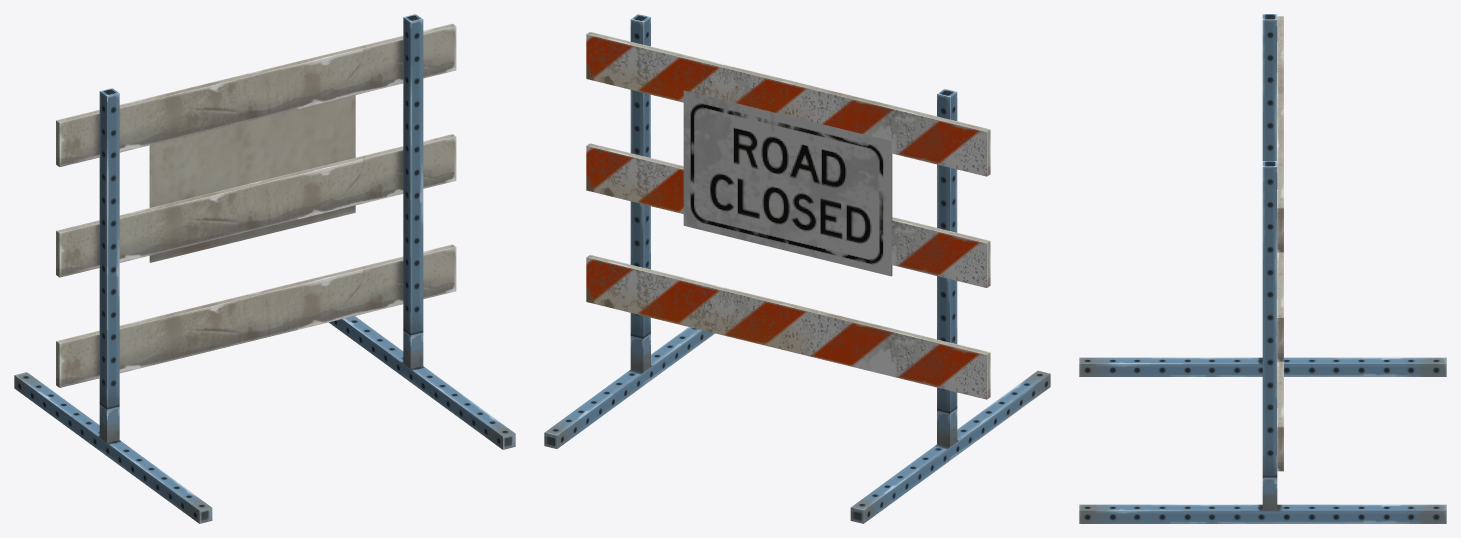
Rendered from TRF0210028.fbx.
3 renders of one model, left to right at view 1: azimuth 30°, elevation 25°; view 2: azimuth 150°, elevation 25°; view 3: azimuth 270°, elevation 25°, orthographic.
Parts seen in each view (by area): view 1: smTRF0210028; view 2: smTRF0210028; view 3: smTRF0210028.
Part boxes in pixels (box(x1,y1,x2,y2)): smTRF0210028: box(14, 14, 515, 523); smTRF0210028: box(544, 14, 1050, 523); smTRF0210028: box(1079, 14, 1446, 523).
Size of the model in its own units: 188 by 163 by 152.
1 material, 1 textured.
